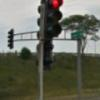traffic lights: (48, 0, 63, 38)
